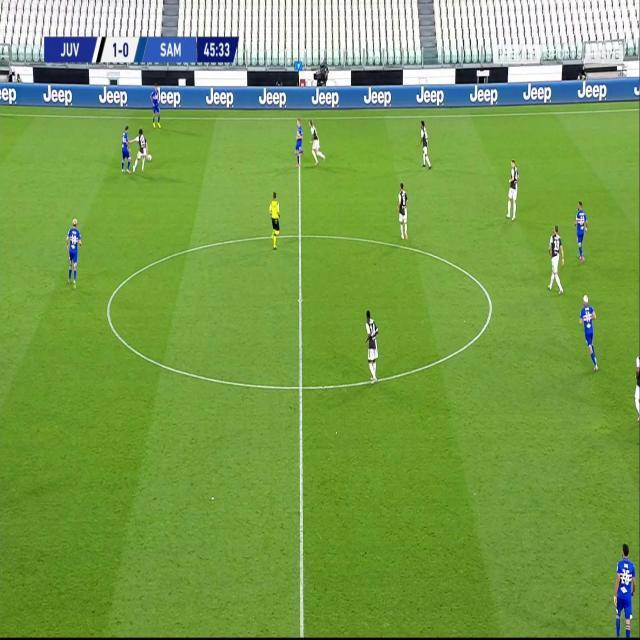ball: (147, 153, 153, 162)
player: (611, 538, 638, 640), (578, 292, 601, 372), (65, 216, 84, 289), (363, 306, 381, 383), (547, 225, 566, 295), (574, 199, 589, 263), (505, 157, 520, 221), (132, 127, 152, 174), (307, 118, 325, 166), (396, 181, 410, 241), (418, 118, 431, 169), (120, 123, 133, 174), (149, 85, 162, 131), (294, 116, 305, 169), (632, 348, 640, 419)
referee: (268, 190, 283, 251)
